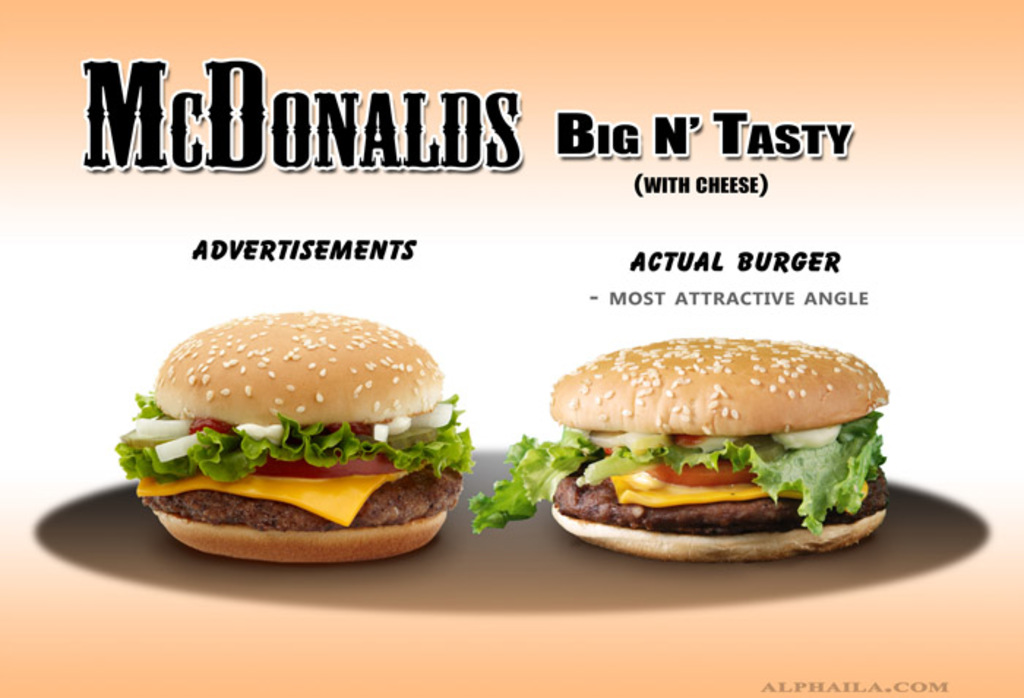Hamburger: (111, 308, 476, 566), (469, 336, 895, 556)
